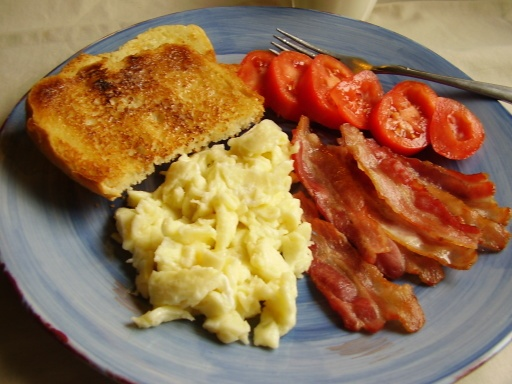background: (20, 14, 409, 208)
